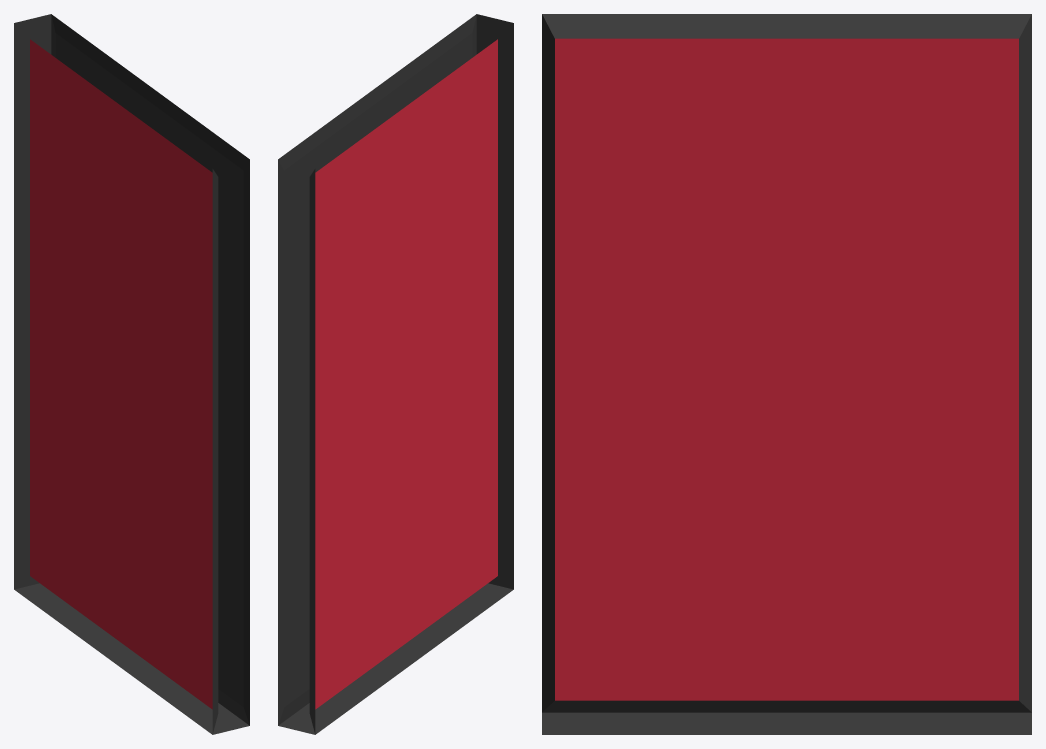
Rendered from panel de información.glb.
3 renders of one model, left to right at view 1: azimuth 30°, elevation 25°; view 2: azimuth 150°, elevation 25°; view 3: azimuth 270°, elevation 25°, orthographic. The views are drawn at different scales.
Parts seen in each view (by area): view 1: panel1; view 2: panel1; view 3: panel1.
Boxes of the visible parts, box(x1,y1,x2,y2) form: panel1: box(14, 14, 249, 734); panel1: box(278, 14, 513, 734); panel1: box(542, 14, 1031, 734).
Size of the model in its own units: 0.0799 by 1.16 by 0.7385.
